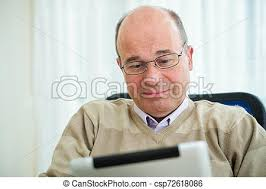white_male: (113, 31, 186, 124)
